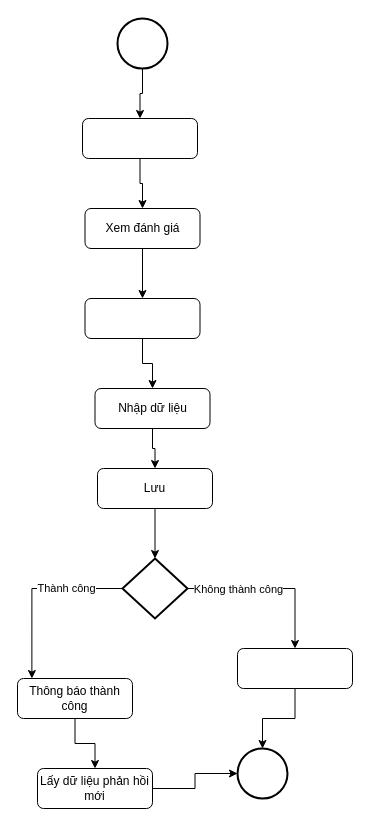
The diagram is 370 pixels wide and 826 high, and some of its shapes have lost their labels. Each missing label, with the centre of its shape:
"Hiển thị danh sách sản phẩm" belongs at point 140,138.
"Phản hồi đánh giá" belongs at point 142,318.
"Thông báo lỗi" belongs at point 294,668.
